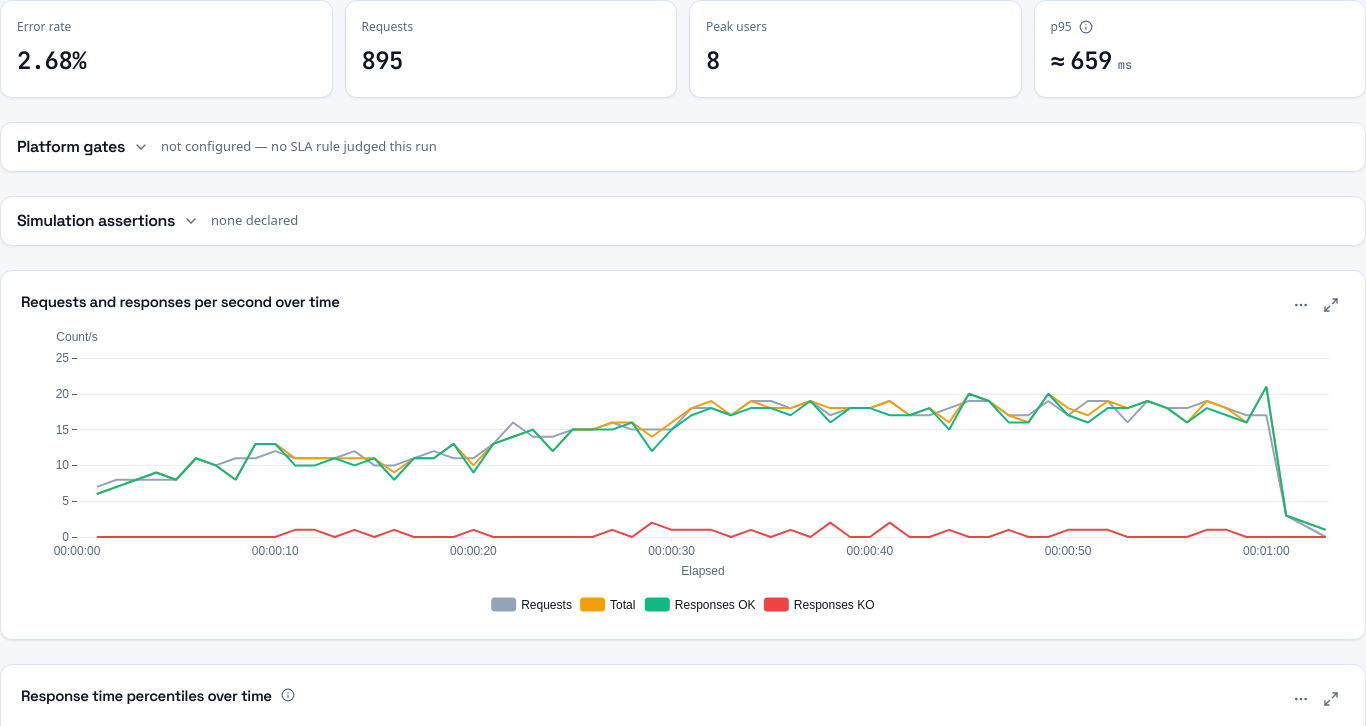
RunSummary — the way to add a rule follows the run’s project access › offers a Member the way to add one
The image size is (1366, 726).
What coordinates should you click on to do the following:
click the button "Platform gates"
I would click on:
 (83, 147)
Its box is 17,135 -> 149,159.
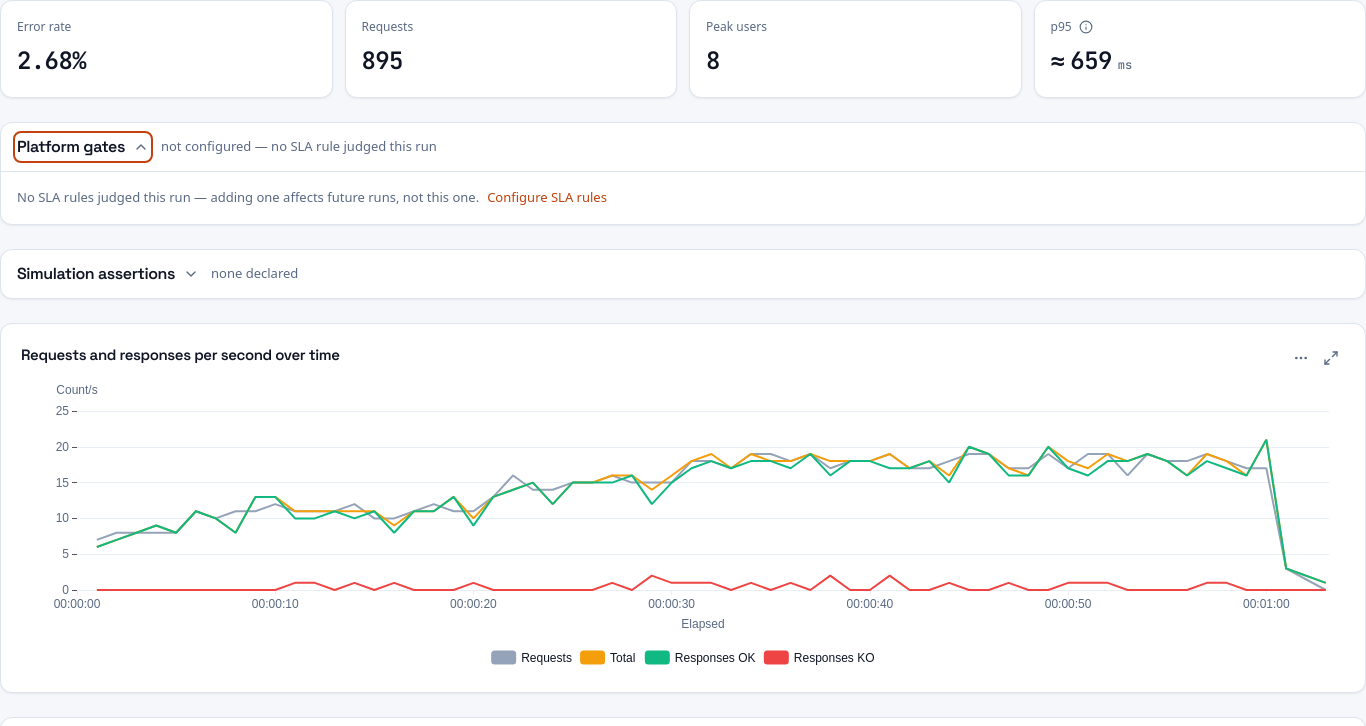
Now the text "adding one affects future runs" is shown, box 17,188 -> 479,206
